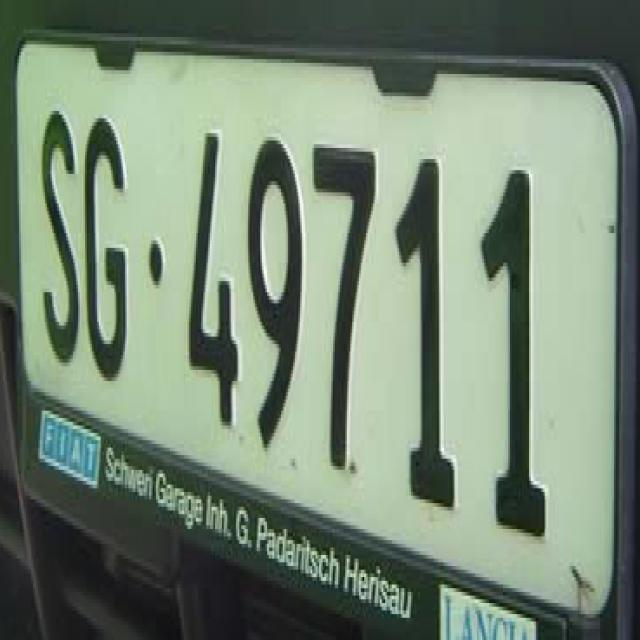Autre: (13, 33, 629, 636)
